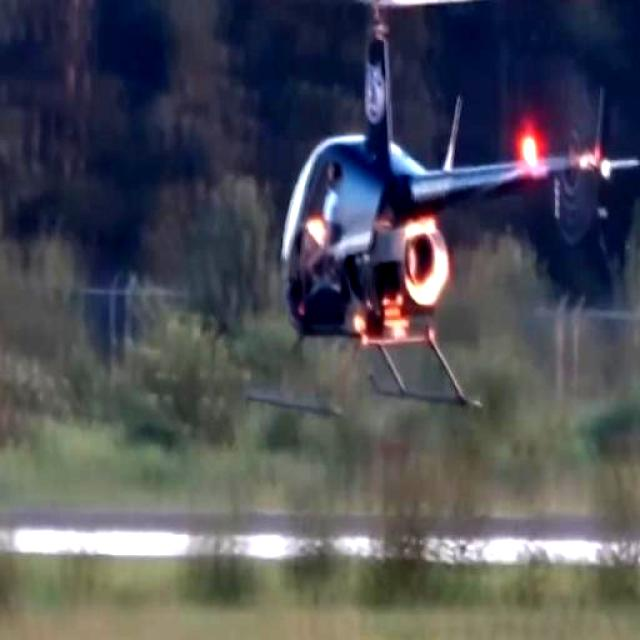drone: (270, 0, 640, 408)
